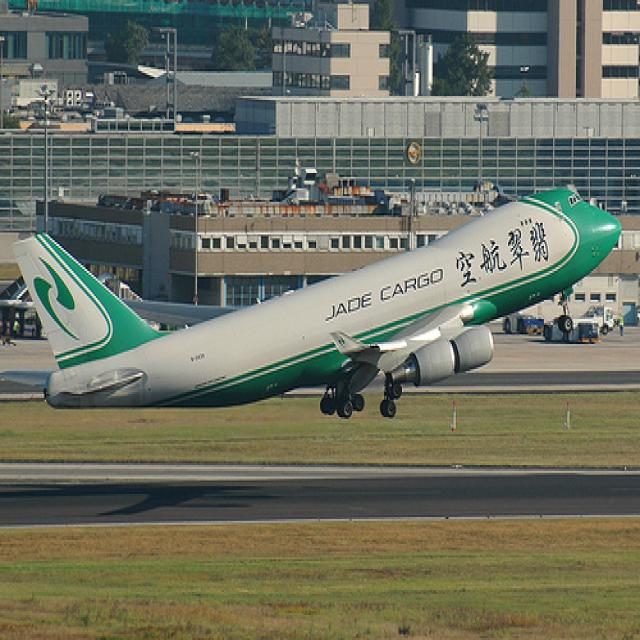aeroplane: (10, 166, 626, 428)
